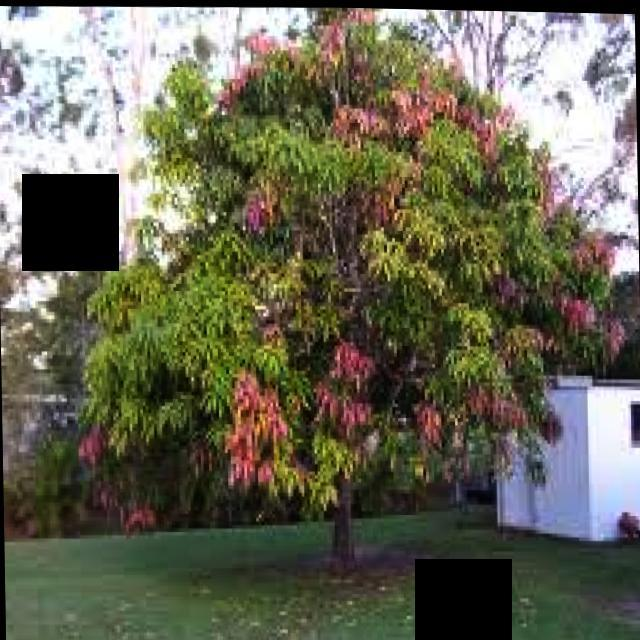Tree: (131, 29, 543, 587)
